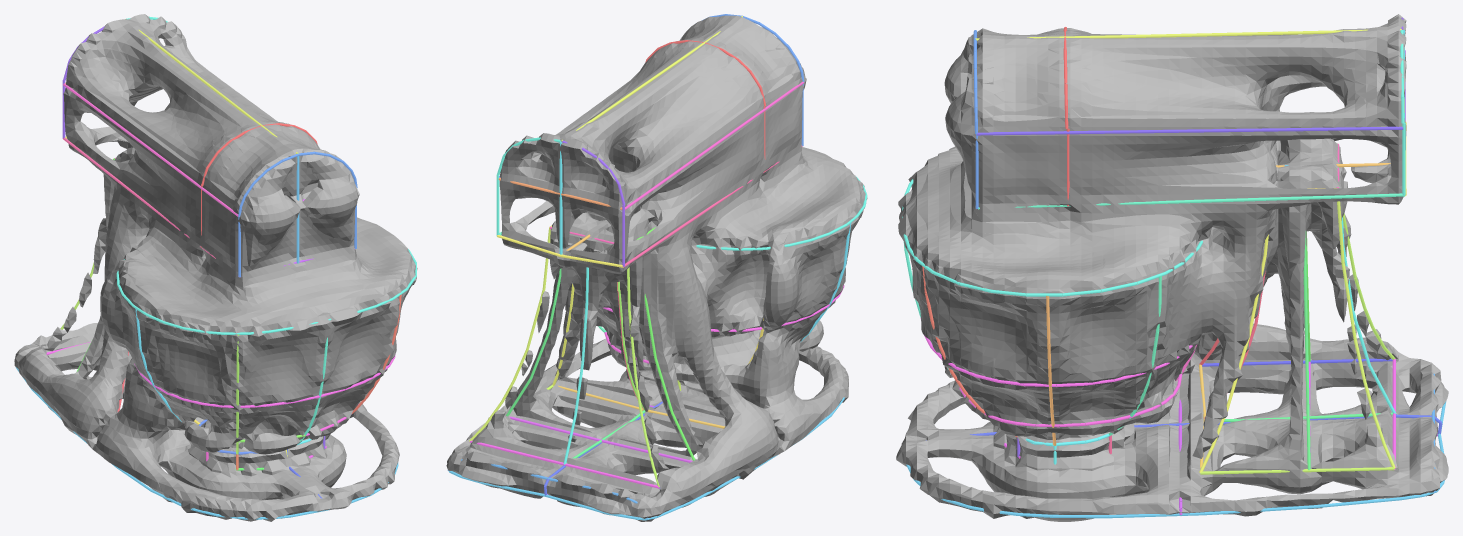
File: t2f_blender.gltf
3 views of the same model, side by side, from view 1: azimuth 30°, elevation 25°; view 2: azimuth 150°, elevation 25°; view 3: azimuth 270°, elevation 25° (orthographic). The views are drawn at different scales.
Size of the model in its own units: 0.4703 by 0.6537 by 0.6853.
